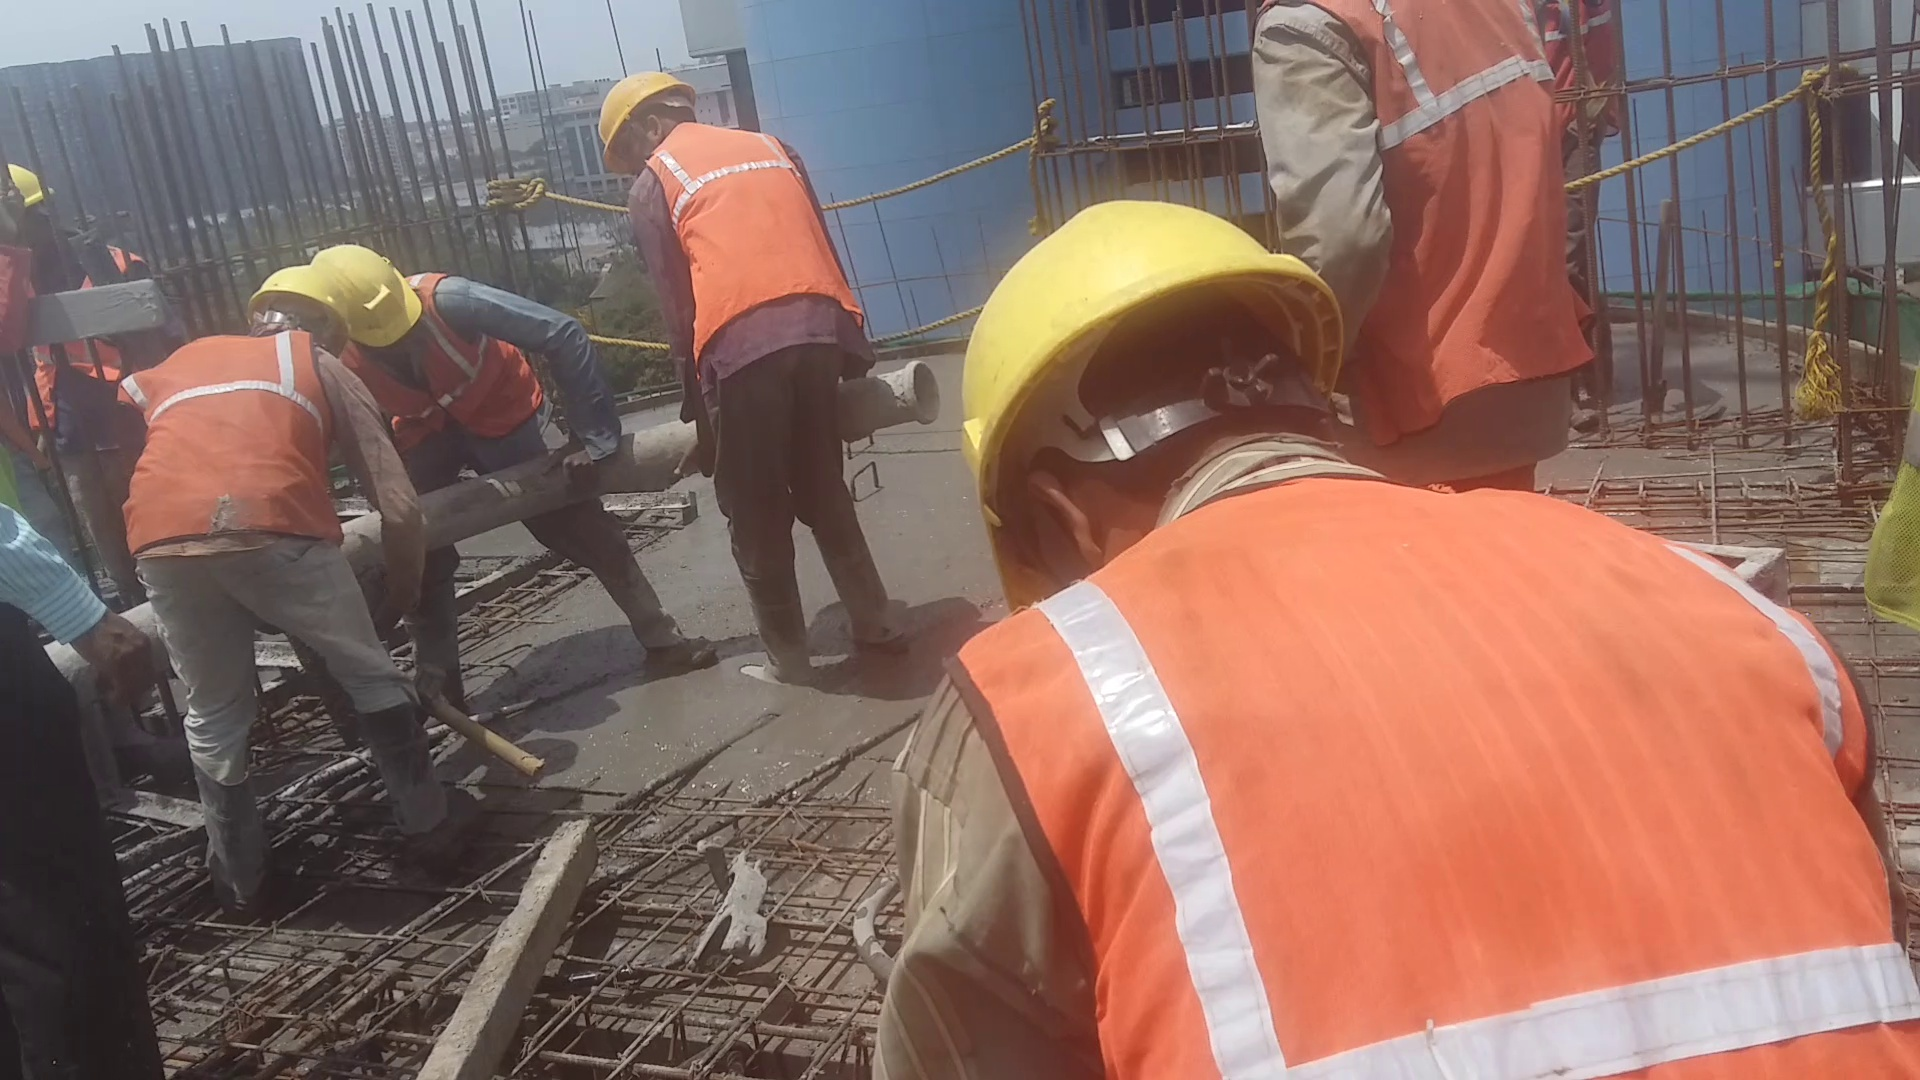SAFE: (953, 191, 1917, 1080), (595, 63, 856, 371), (127, 261, 344, 564), (349, 228, 546, 456)
